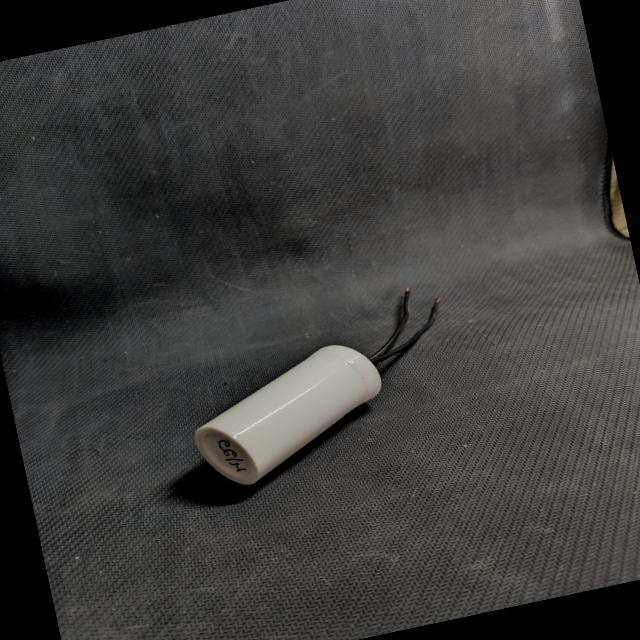capacitor: (160, 270, 488, 504)
